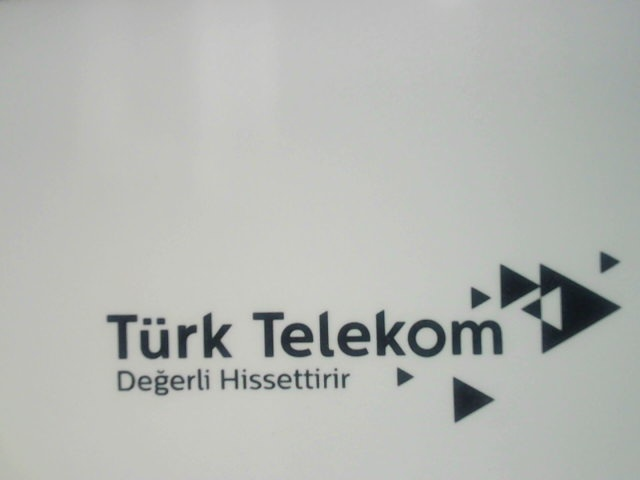AQ_TURKTelekom: (100, 244, 630, 427)
